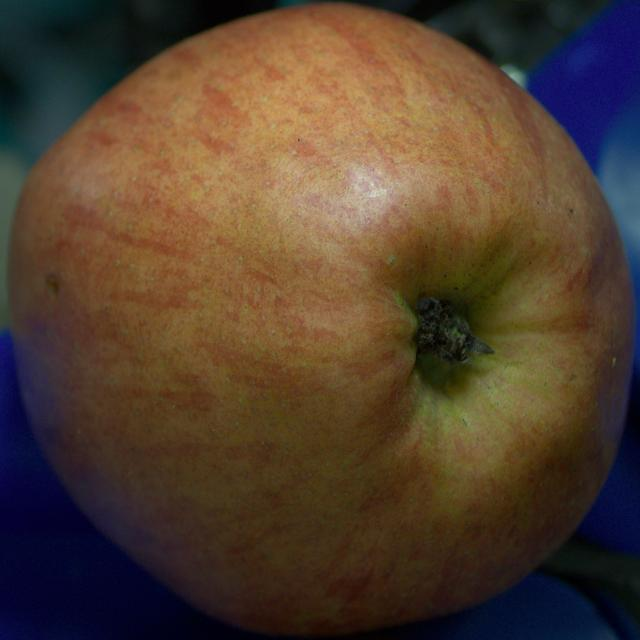apple: (8, 4, 634, 635)
pest: (47, 276, 56, 294)
